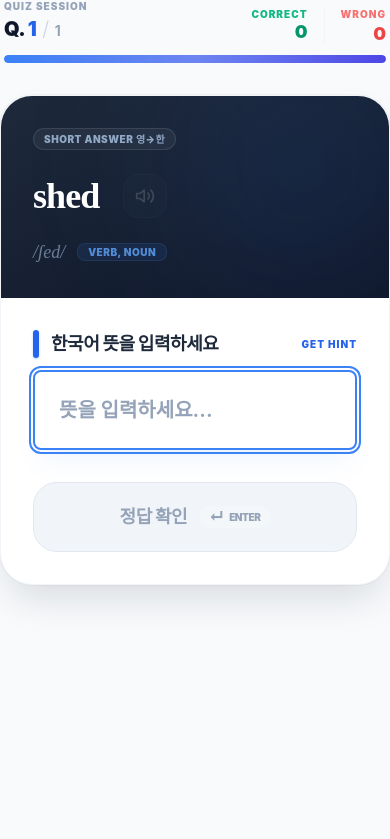
Test: ShortAnswerQuiz › reveals the full word details after checking an answer
This screenshot has width=390, height=839.
In the field named "한국어 뜻 입력": (195,410) [33, 370, 357, 450], type "헛간"
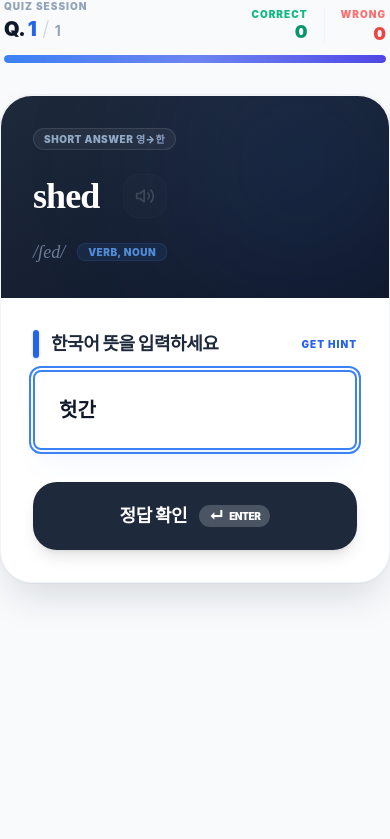
Click the button "정답 확인 ↵ ENTER": (153,516) [33, 482, 357, 550]
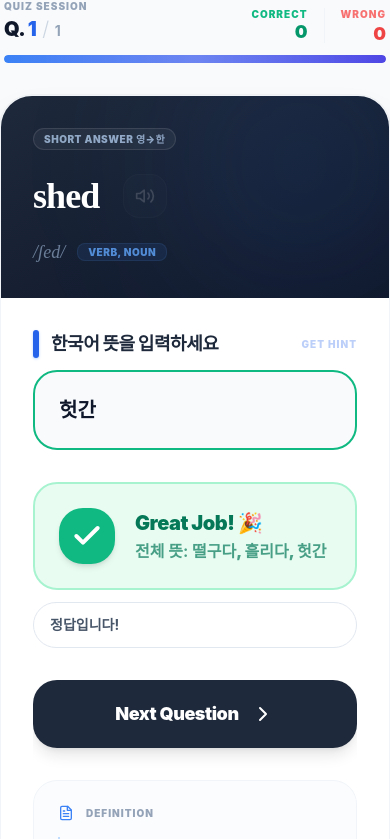
Check: the heading "Great Job! 🎉" is shown, box [135, 511, 262, 535]
Check: the text "전체 뜻:" is shown, box [135, 541, 188, 561]
Check: the text "떨구다, 흘리다, 헛간" is shown, box [192, 541, 326, 561]
